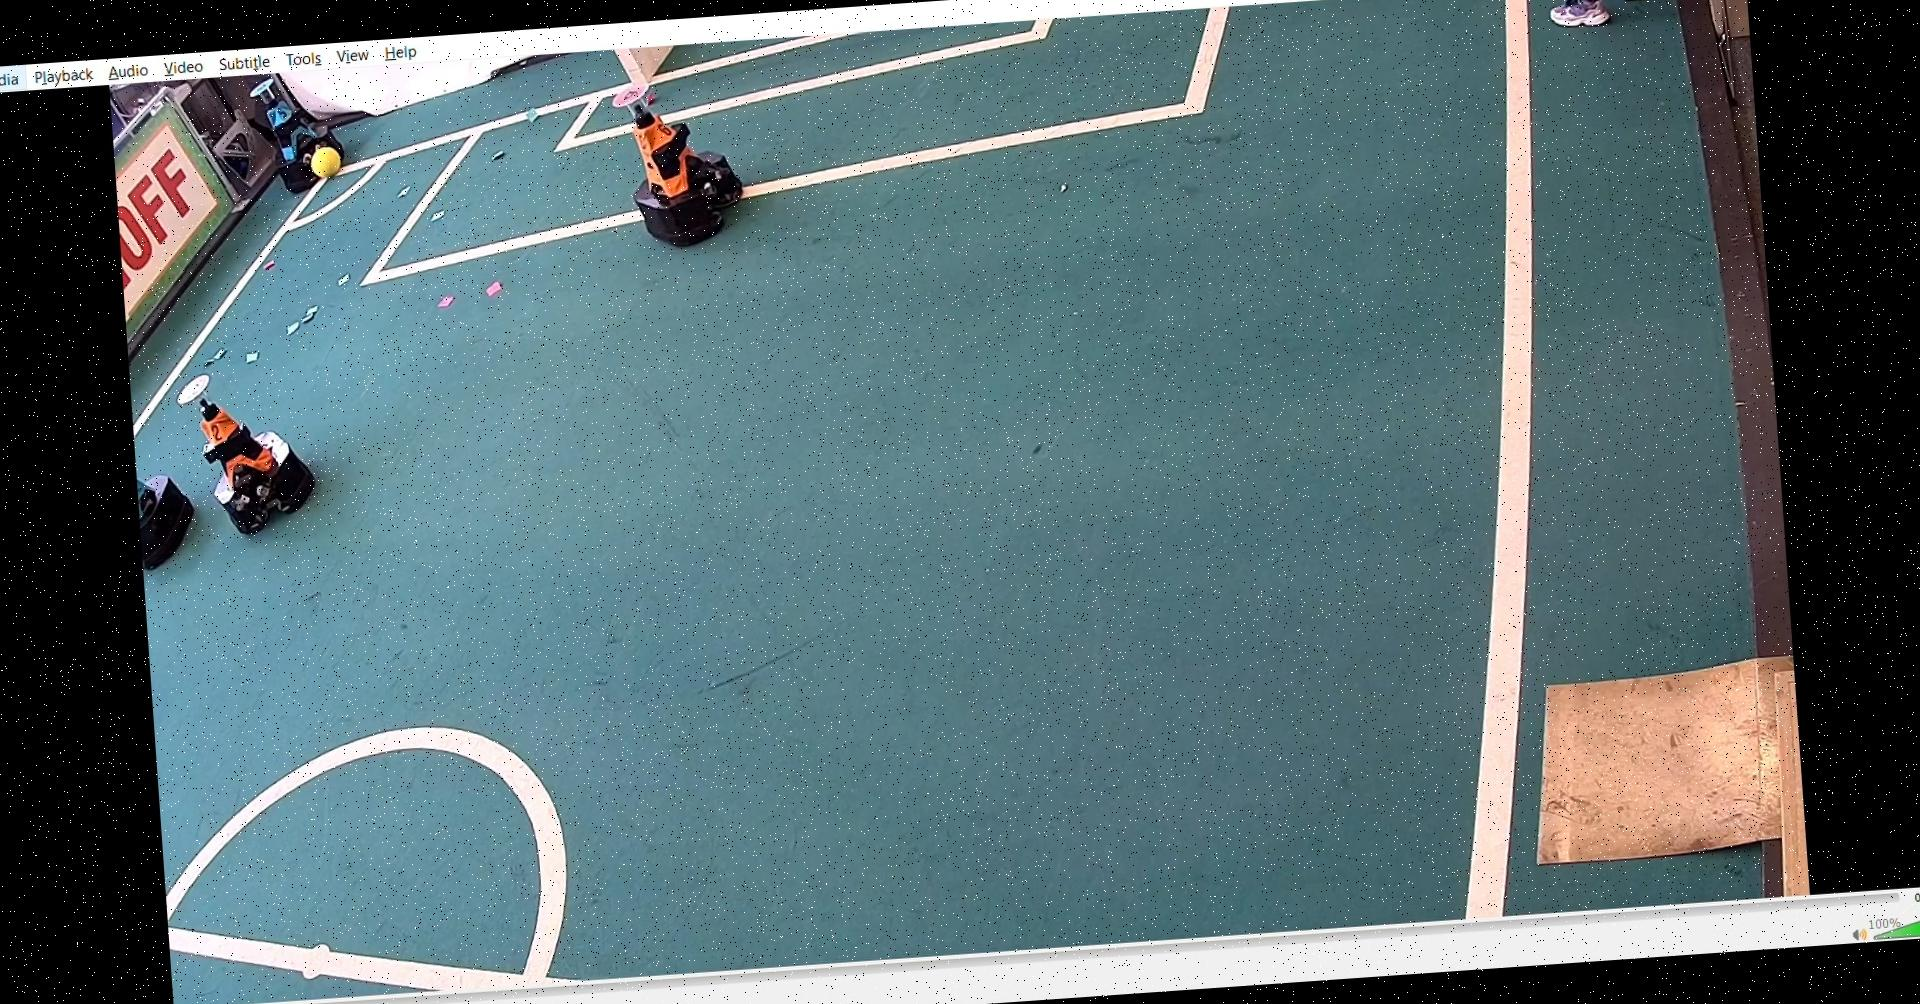Ball: (303, 140, 345, 182)
Team_Blue: (249, 72, 350, 192)
Team_Red: (169, 354, 328, 541), (612, 66, 738, 245)
